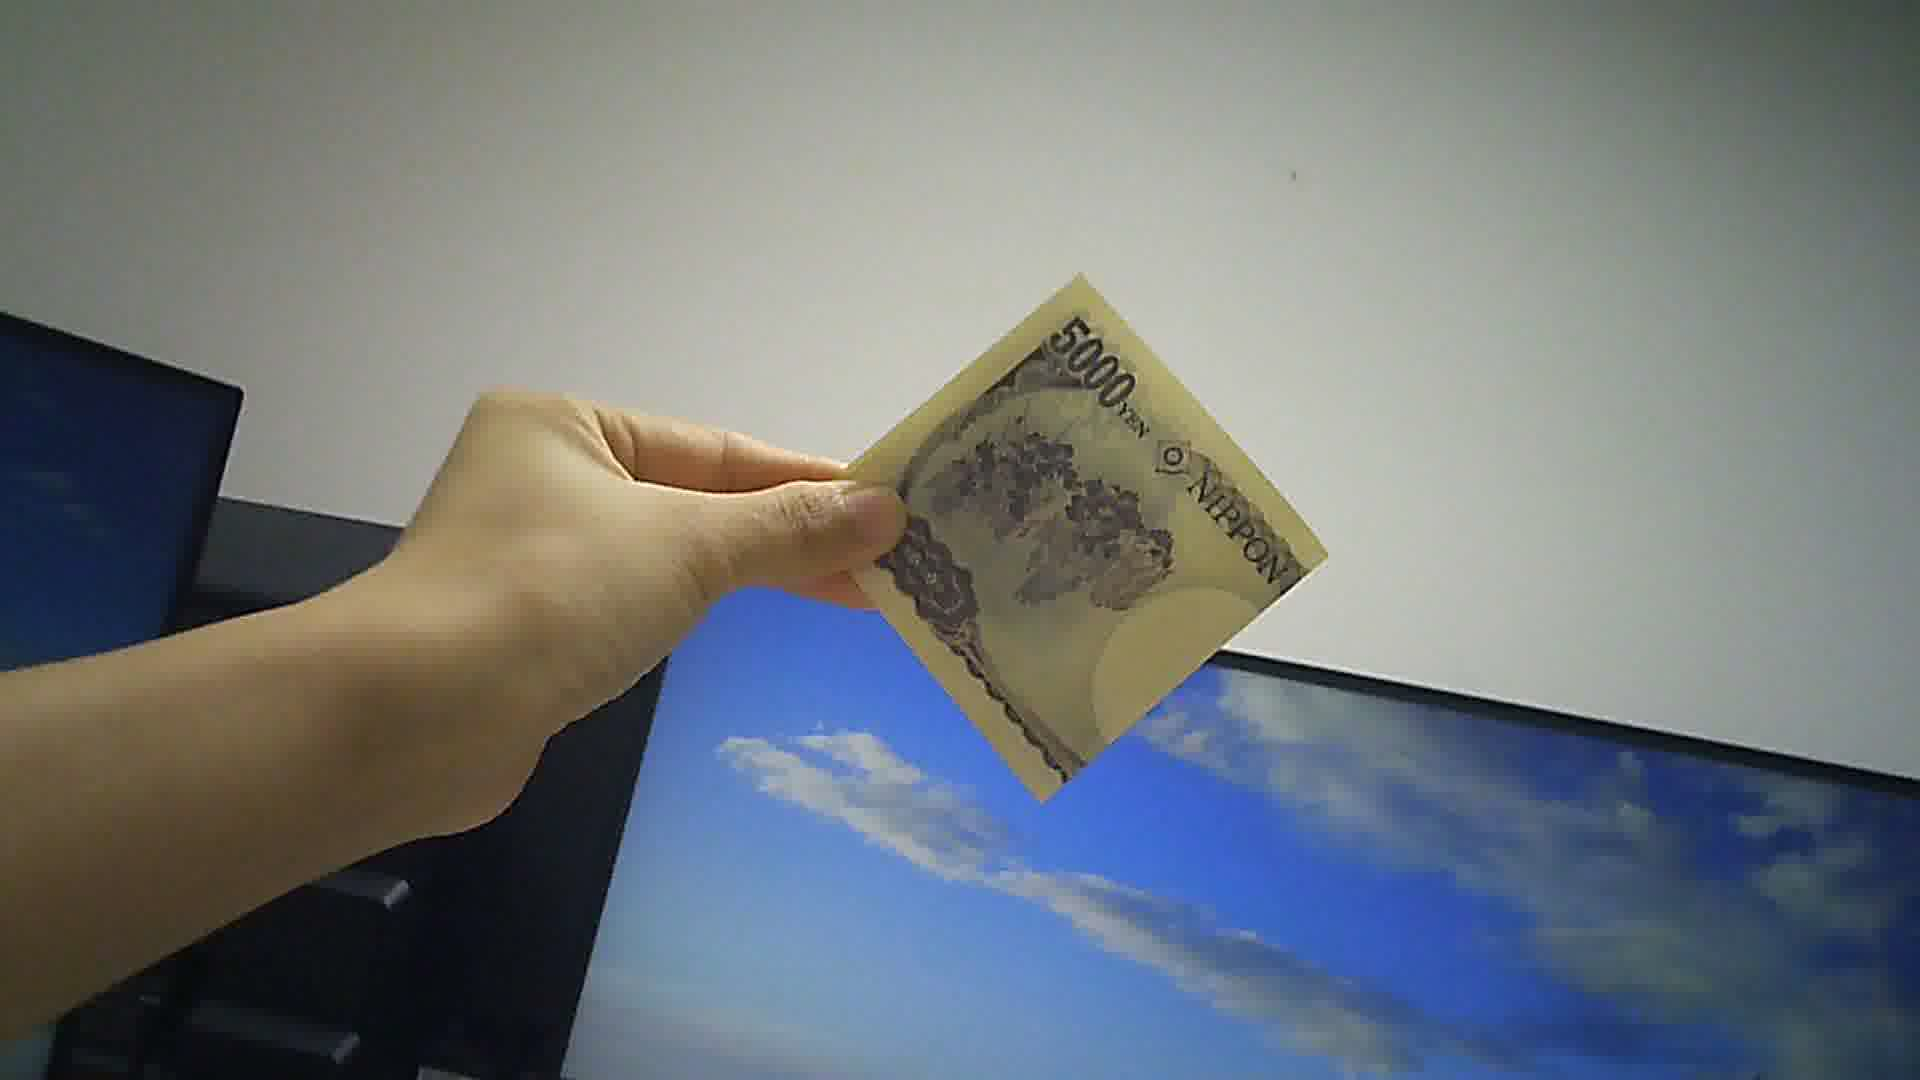5,000 Yen: (819, 257, 1346, 832)
